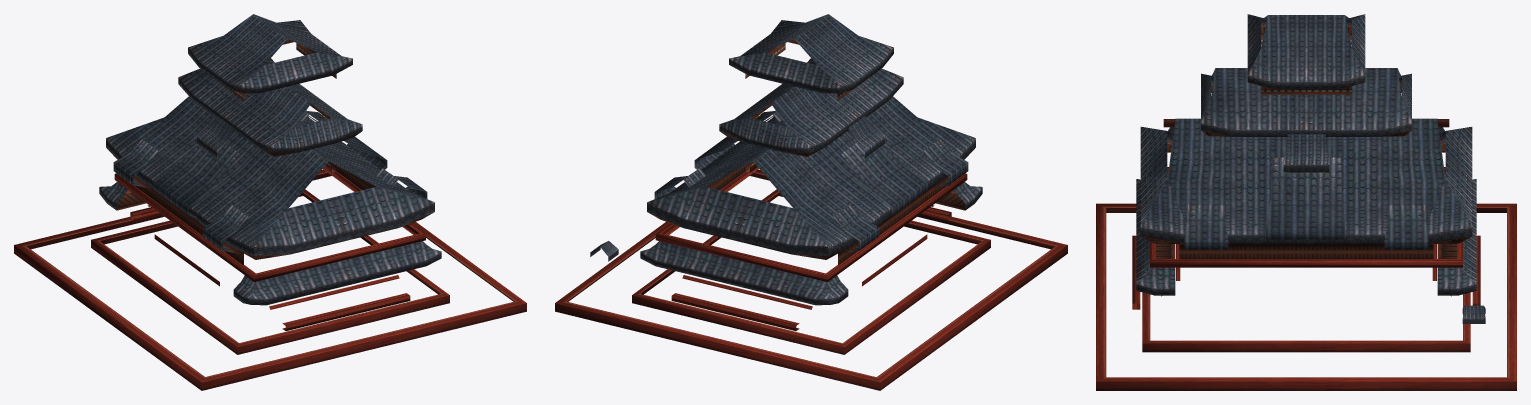
File: Yland1_fz_10 Yland1.FBX
3 renders of one model, left to right at view 1: azimuth 30°, elevation 25°; view 2: azimuth 150°, elevation 25°; view 3: azimuth 270°, elevation 25°, orthographic. The views are drawn at different scales.
Parts seen in each view (by area): view 1: Yland1_fz_10 Yland1; view 2: Yland1_fz_10 Yland1; view 3: Yland1_fz_10 Yland1.
Part boxes in pixels (<box>): Yland1_fz_10 Yland1: <box>14,14,526,390</box>; Yland1_fz_10 Yland1: <box>555,14,1067,390</box>; Yland1_fz_10 Yland1: <box>1096,14,1516,390</box>.
Bounding box in the file's own units: 23.03 × 17.33 × 23.03.
